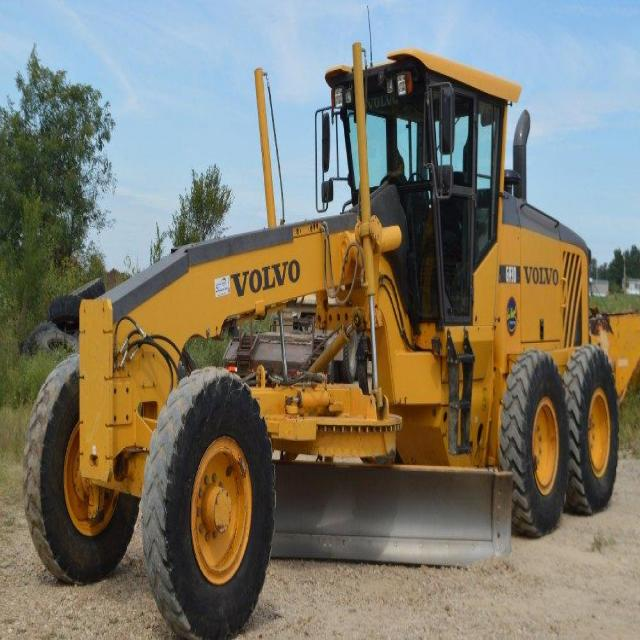Grader: (28, 18, 634, 639)
